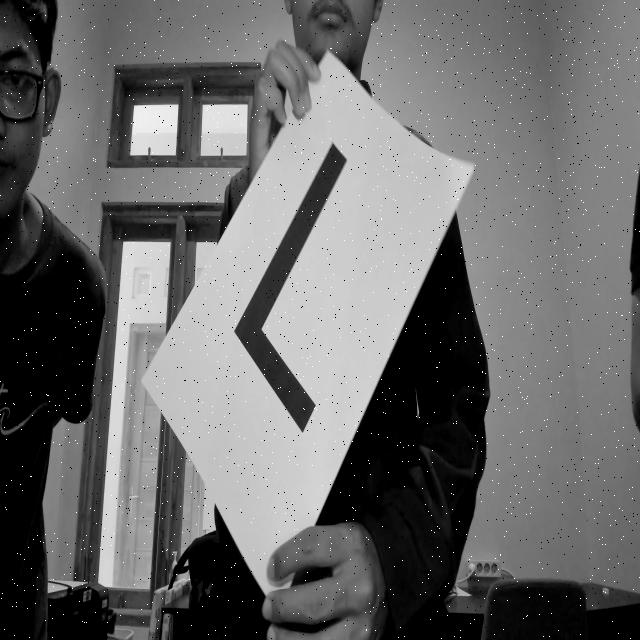l: (218, 126, 374, 464)
